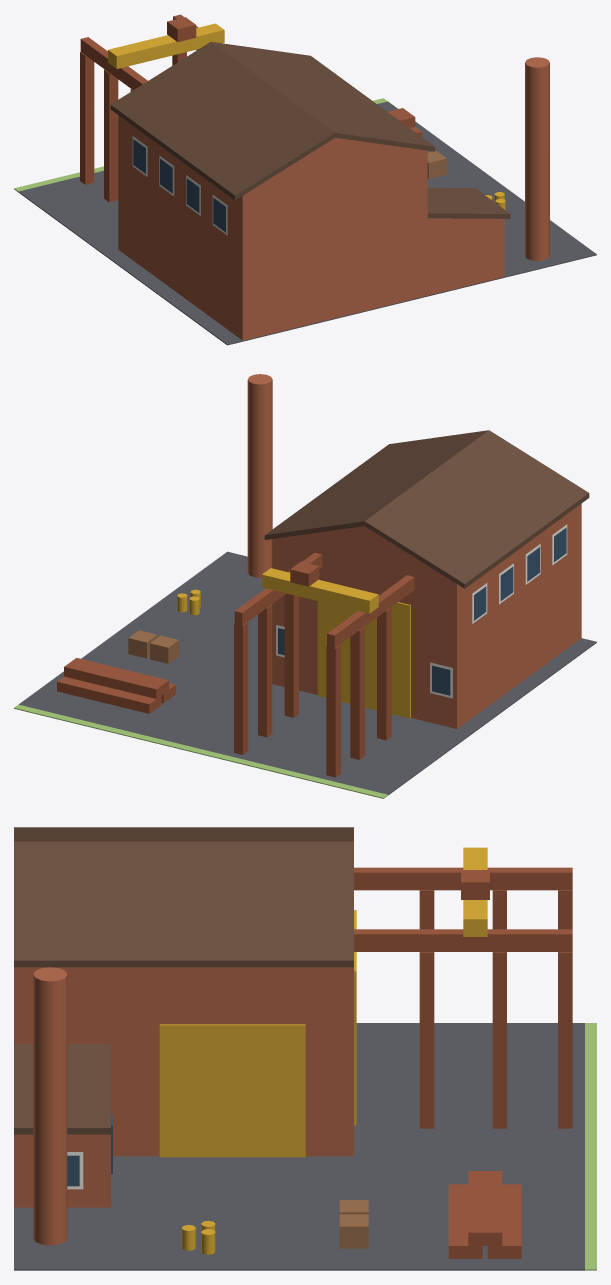
3 views of the same model, one above another, from view 1: azimuth 30°, elevation 25°; view 2: azimuth 150°, elevation 25°; view 3: azimuth 270°, elevation 25° (orthographic). The views are drawn at different scales.
Visible parts, largest first — view 1: wall, roof (×3), asphalt, smoke_stack, office, gable (×2), leg (×2), crane, crane_rail, crane_trolley, pallet; view 2: asphalt, wall, roof (×2), leg (×6), garage_door, smoke_stack, steel_beams (×2), gable, crane_rail (×2), crane, lawn, pallet (×2) (+1 smaller); view 3: asphalt, roof (×3), wall, garage_door (×2), leg (×6), smoke_stack, crane_rail (×2), steel_beams (×3), office, lawn, crane, pallet (+1 smaller).
Part boxes in pixels (x1,y1,x2,y2): wall: (118, 115, 427, 340); roof (×3): (110, 42, 510, 218); asphalt: (18, 101, 596, 345); smoke_stack: (525, 57, 549, 260); office: (427, 219, 504, 295); gable (×2): (243, 137, 502, 237); leg (×2): (80, 52, 118, 202); crane: (108, 23, 224, 68); crane_rail: (80, 37, 147, 90); crane_trolley: (167, 17, 196, 41); pallet: (427, 150, 446, 178); asphalt: (19, 551, 596, 795); wall: (272, 503, 581, 728); roof (×2): (264, 430, 589, 588); leg (×6): (234, 593, 391, 777); garage_door: (317, 601, 410, 718); smoke_stack: (247, 374, 272, 577); steel_beams (×2): (57, 658, 168, 713); gable: (273, 526, 456, 583); crane_rail (×2): (234, 552, 414, 648); crane: (262, 568, 378, 613); lawn: (14, 704, 387, 798); pallet (×2): (128, 630, 178, 663); asphalt: (14, 1023, 584, 1270); roof (×3): (14, 827, 353, 1134); wall: (14, 967, 353, 1156); garage_door (×2): (159, 910, 356, 1157); leg (×6): (419, 890, 572, 1128); smoke_stack: (33, 967, 67, 1245); crane_rail (×2): (354, 867, 572, 951); steel_beams (×3): (448, 1171, 521, 1258); office: (14, 1134, 110, 1207); lawn: (585, 1023, 596, 1270); crane: (463, 847, 487, 936); pallet: (339, 1214, 368, 1248).
Bounding box in the file's own units: 24 × 12.06 × 24.
